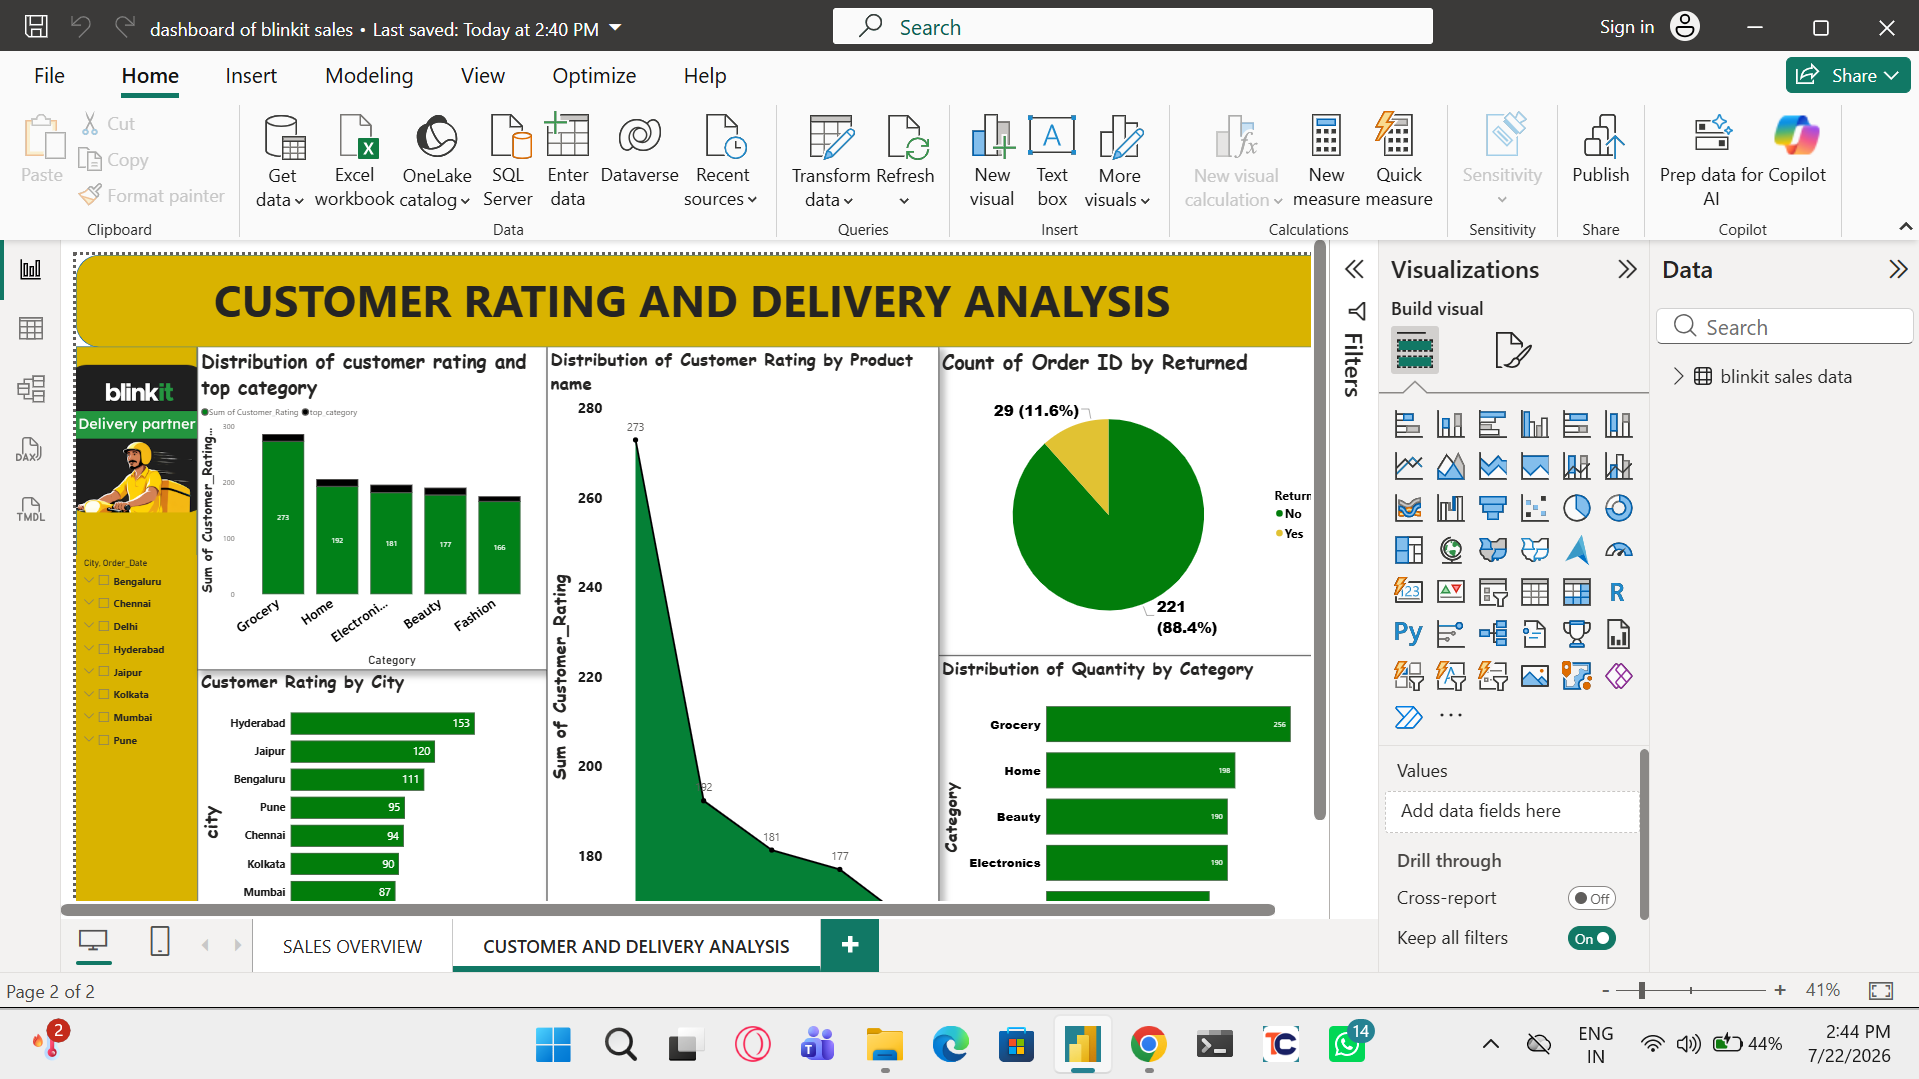

The page's visual inventory and layout, read from the dashboard file:
{"tool":"powerbi","page":{"name":"CUSTOMER AND DELIVERY ANALYSIS","canvas":[2068,1200],"ordinal":1},"visuals":[{"type":"pieChart","title":"Count of Order ID by Returned","fields":{"Category":["blinkit sales data.Returned"],"Y":["CountNonNull(blinkit sales data.Order_ID)"]},"box":[1402.9,148.6,665.7,502.9],"z":0},{"type":"clusteredBarChart","title":"Distribution of Quantity by Category","fields":{"Y":["Sum(blinkit sales data.Quantity)"],"Category":["blinkit sales data.Category"]},"box":[1402.9,651.4,665.7,548.6],"z":1000},{"type":"clusteredBarChart","title":" Customer Rating by City","fields":{"Y":["Sum(blinkit sales data.Delivery_Days)"],"Category":["blinkit sales data.City"]},"box":[197.1,674.3,568.6,525.7],"z":2000},{"type":"shape","box":[0,148.6,197.1,1051.4],"z":3000},{"type":"slicer","fields":{"Values":["blinkit sales data.City","blinkit sales data.Order_Date"]},"box":[0,486.7,196.7,713.3],"z":4000},{"type":"columnChart","title":"Distribution of customer rating and top category","fields":{"Category":["blinkit sales data.Category"],"Y":["Sum(blinkit sales data.Customer_Rating)","blinkit sales data.top_category"]},"box":[197.1,148.6,568.6,525.7],"z":5000},{"type":"areaChart","title":"Distribution of Customer Rating by Product name","fields":{"Category":["blinkit sales data.Product_name"],"Y":["Sum(blinkit sales data.Customer_Rating)"]},"box":[765.7,148.6,637.1,1051.4],"z":6000},{"type":"image","box":[0,136.7,196.7,323.3],"z":7000},{"type":"shape","box":[0,0,2066.7,150],"z":8000},{"type":"textbox","box":[220,16.7,1730,120],"z":9000}]}

Visuals, with their boxes on the page's 2068x1200 design canvas (x1, y1, x2, y2). These are canvas units, not pixel positions in the 1919x1079 screenshot, which may show the page scaled, cropped or inside an application window:
"Count of Order ID by Returned" pieChart: l=1403, t=149, r=2069, b=652
"Distribution of Quantity by Category" clusteredBarChart: l=1403, t=651, r=2069, b=1200
" Customer Rating by City" clusteredBarChart: l=197, t=674, r=766, b=1200
shape: l=0, t=149, r=197, b=1200
slicer - blinkit sales data.City x blinkit sales data.Order_Date: l=0, t=487, r=197, b=1200
"Distribution of customer rating and top category" columnChart: l=197, t=149, r=766, b=674
"Distribution of Customer Rating by Product name" areaChart: l=766, t=149, r=1403, b=1200
image: l=0, t=137, r=197, b=460
shape: l=0, t=0, r=2067, b=150
textbox: l=220, t=17, r=1950, b=137
